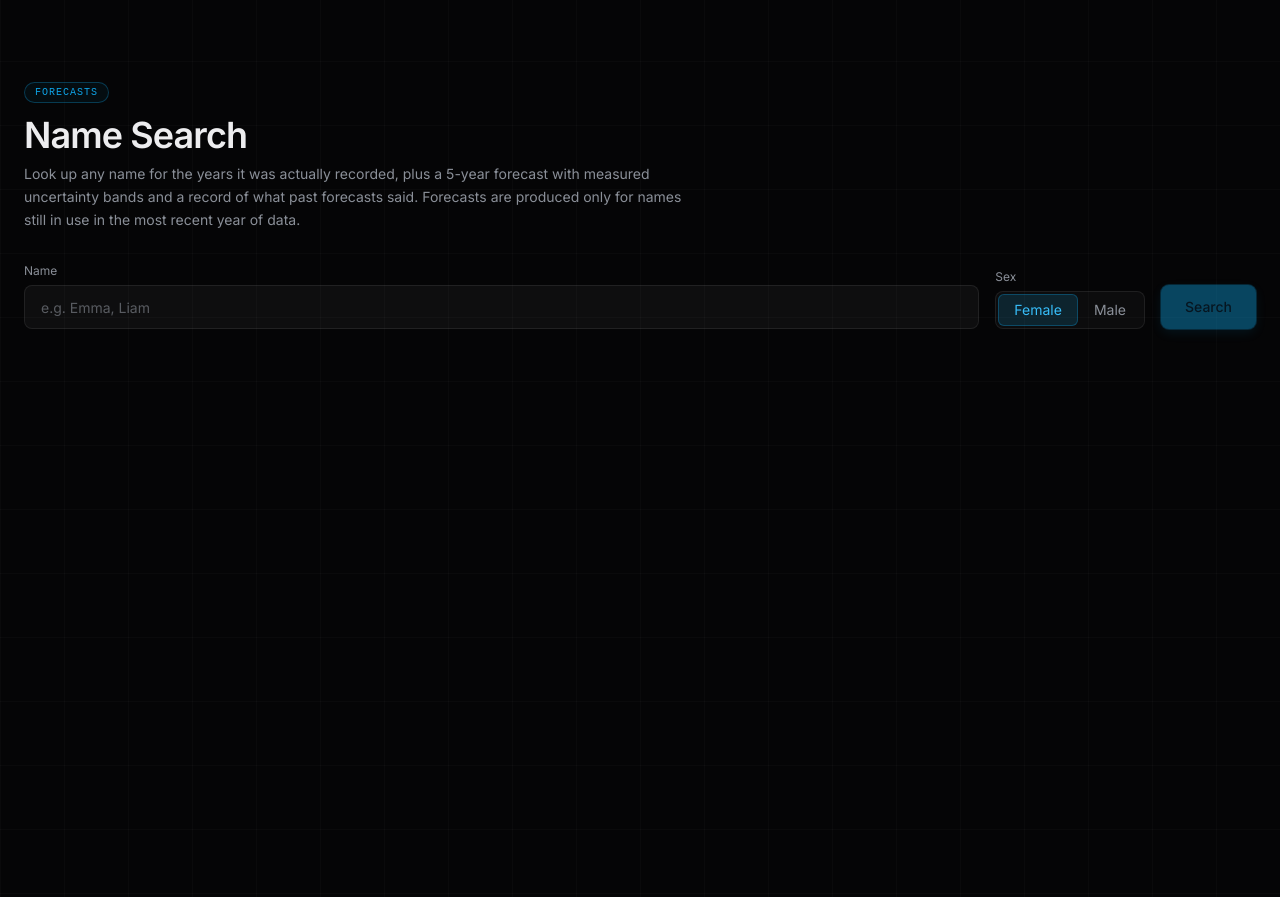
Scenario: SearchPage track record › shows, for each year the model can be checked on, what it said and how wrong it was
Type "Emma" into the field labelled "Name" at (502, 307), box left=24, top=285, right=979, bottom=329
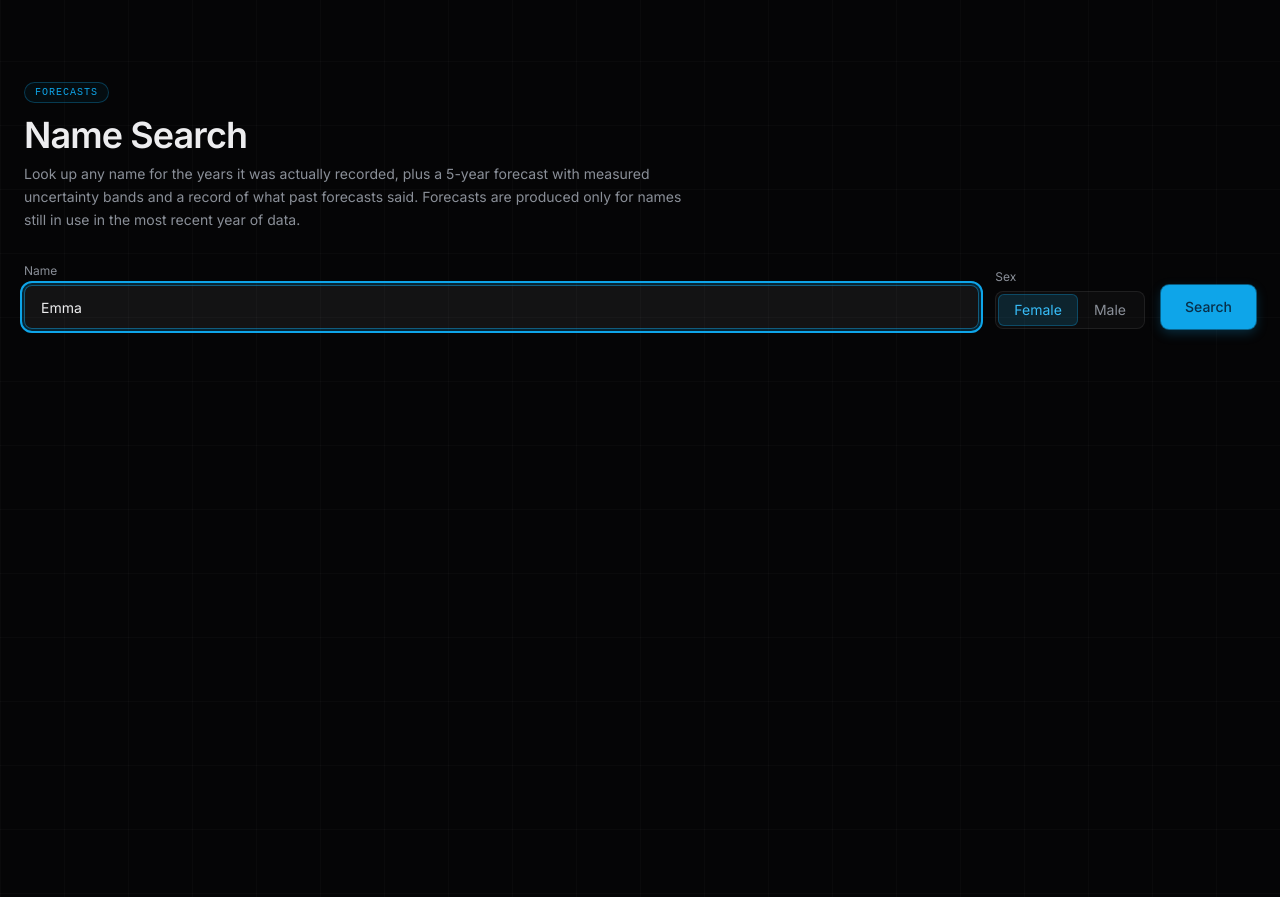
Click the button "Search" at (1208, 307), box left=1161, top=285, right=1256, bottom=329
(page scrolled)
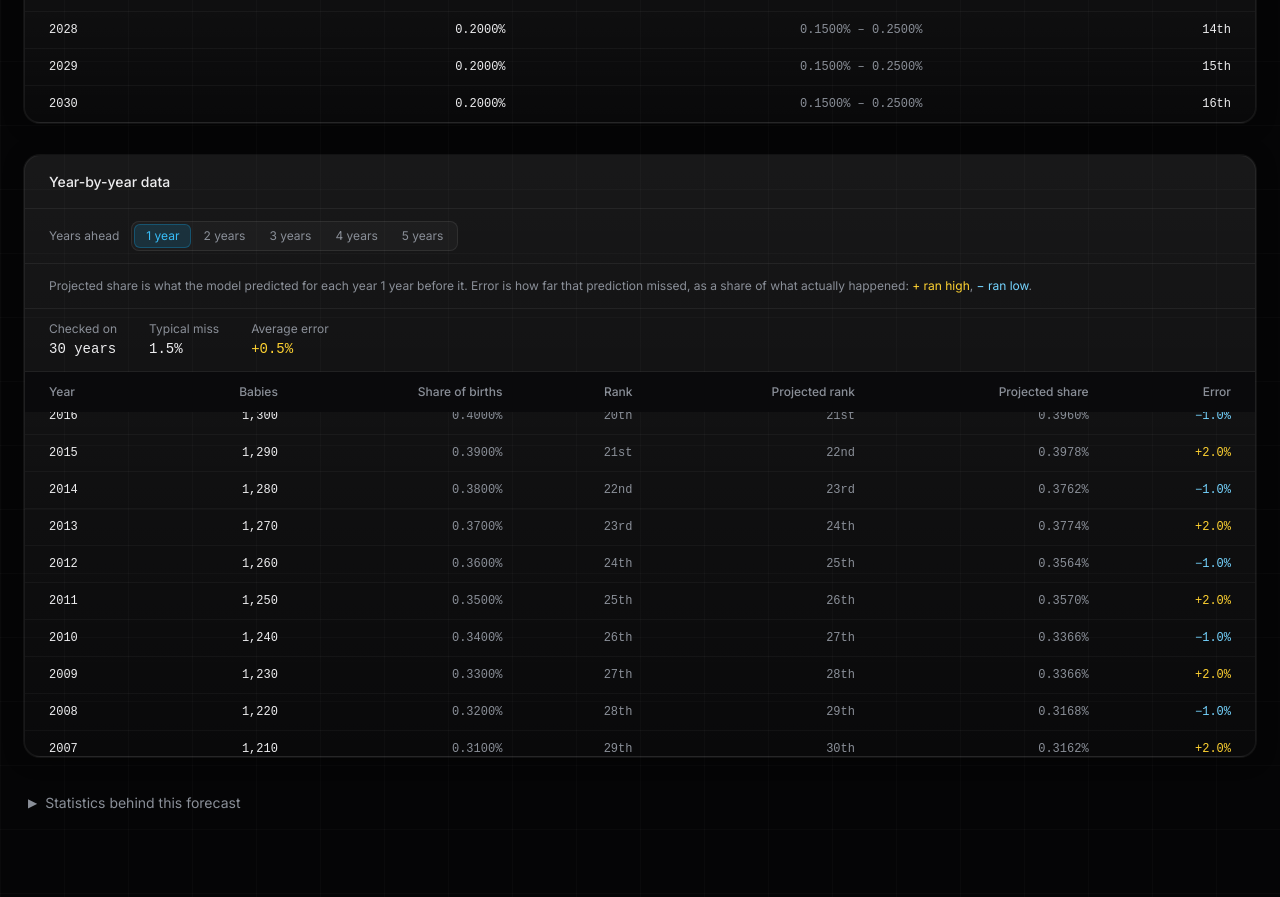
Now the column heading "Error" is shown, box left=1113, top=372, right=1255, bottom=412
Now the row "2011 1,250 0.3500% 25th 26th 0.3570% +2.0%" is shown, box left=25, top=582, right=1255, bottom=619
Now the row "2012 1,260 0.3600% 24th 25th 0.3564% −1.0%" is shown, box left=25, top=545, right=1255, bottom=582
